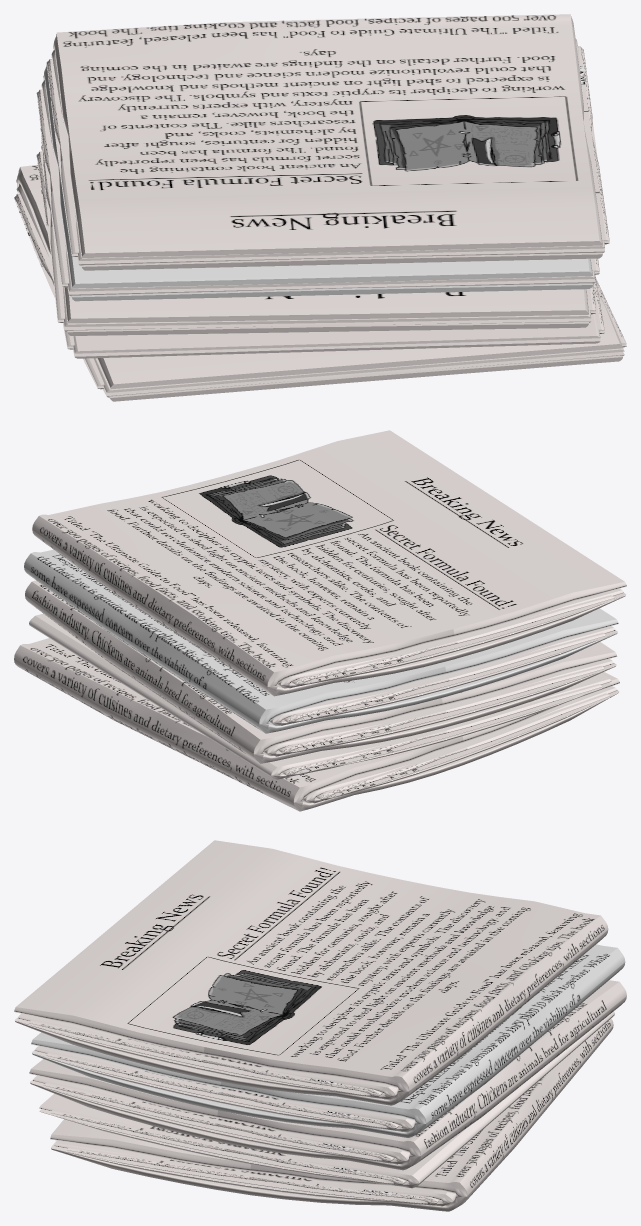
File: AP_NewspaperStack2_CS.fbx
3 views of the same model, one above another, from view 1: azimuth 30°, elevation 25°; view 2: azimuth 150°, elevation 25°; view 3: azimuth 270°, elevation 25° (orthographic). The views are drawn at different scales.
Visible parts, largest first — view 1: pasted__pasted__pasted__pasted__pCube1, pasted__pasted__pasted__pCube1 (×2), pasted__pasted__pasted__pCube4, pasted__pasted__pasted__pasted__pCube2, pasted__pasted__pasted__pCube3, pasted__pasted__pCube1 (×2), pasted__pasted__pasted__pCube2, pasted__pasted__pCube4, pasted__pCube1, pasted__pasted__pCube2, pasted__pCube2, pasted__pasted__pCube3; view 2: pasted__pasted__pasted__pasted__pCube1, pasted__pasted__pasted__pCube1 (×2), pasted__pasted__pasted__pasted__pCube2, pasted__pasted__pasted__pCube4, pasted__pasted__pasted__pCube3, pasted__pasted__pCube1 (×2), pasted__pCube2, pasted__pCube1, pasted__pasted__pCube2, pasted__pasted__pCube3, pasted__pasted__pCube4, pasted__pasted__pasted__pCube2; view 3: pasted__pasted__pasted__pasted__pCube1, pasted__pasted__pasted__pCube1 (×2), pasted__pasted__pasted__pCube4, pasted__pasted__pasted__pasted__pCube2, pasted__pasted__pCube1 (×2), pasted__pasted__pasted__pCube3, pasted__pasted__pCube2, pasted__pasted__pCube3, pasted__pCube2, pasted__pCube1, pasted__pasted__pasted__pCube2, pasted__pasted__pCube4.
Part boxes in pixels (x1,y1,x2,y2): pasted__pasted__pasted__pasted__pCube1: (53, 14, 602, 270); pasted__pasted__pasted__pCube1 (×2): (43, 39, 604, 301); pasted__pasted__pasted__pCube4: (64, 287, 588, 335); pasted__pasted__pasted__pasted__pCube2: (16, 165, 622, 401); pasted__pasted__pasted__pCube3: (41, 146, 600, 358); pasted__pasted__pCube1 (×2): (41, 46, 609, 296); pasted__pasted__pasted__pCube2: (16, 184, 624, 397); pasted__pasted__pCube4: (63, 287, 591, 331); pasted__pCube1: (36, 89, 599, 287); pasted__pasted__pCube2: (14, 194, 626, 389); pasted__pCube2: (40, 129, 595, 322); pasted__pasted__pCube3: (36, 151, 604, 349); pasted__pasted__pasted__pasted__pCube1: (32, 430, 626, 696); pasted__pasted__pasted__pCube1 (×2): (24, 549, 623, 733); pasted__pasted__pasted__pasted__pCube2: (14, 638, 619, 811); pasted__pasted__pasted__pCube4: (25, 580, 617, 763); pasted__pasted__pasted__pCube3: (29, 613, 611, 779); pasted__pasted__pCube1 (×2): (269, 595, 615, 725); pasted__pCube2: (278, 666, 604, 754); pasted__pCube1: (284, 632, 606, 723); pasted__pasted__pCube2: (316, 693, 609, 800); pasted__pasted__pCube3: (282, 684, 601, 776); pasted__pasted__pCube4: (264, 659, 614, 756); pasted__pasted__pasted__pCube2: (302, 686, 617, 803); pasted__pasted__pasted__pasted__pCube1: (14, 840, 608, 1105); pasted__pasted__pasted__pCube1 (×2): (17, 944, 625, 1137); pasted__pasted__pasted__pCube4: (29, 980, 626, 1170); pasted__pasted__pasted__pasted__pCube2: (50, 1018, 613, 1211); pasted__pasted__pCube1 (×2): (29, 1020, 414, 1131); pasted__pasted__pasted__pCube3: (39, 1011, 614, 1188); pasted__pasted__pCube2: (67, 1147, 439, 1205); pasted__pasted__pCube3: (50, 1110, 405, 1185); pasted__pCube2: (43, 1082, 394, 1162); pasted__pCube1: (46, 1052, 399, 1129); pasted__pasted__pasted__pCube2: (54, 1140, 455, 1206); pasted__pasted__pCube4: (33, 1075, 409, 1164).
Size of the model in its own units: 1.56 by 0.4425 by 1.6.
3 materials, 3 textured.
